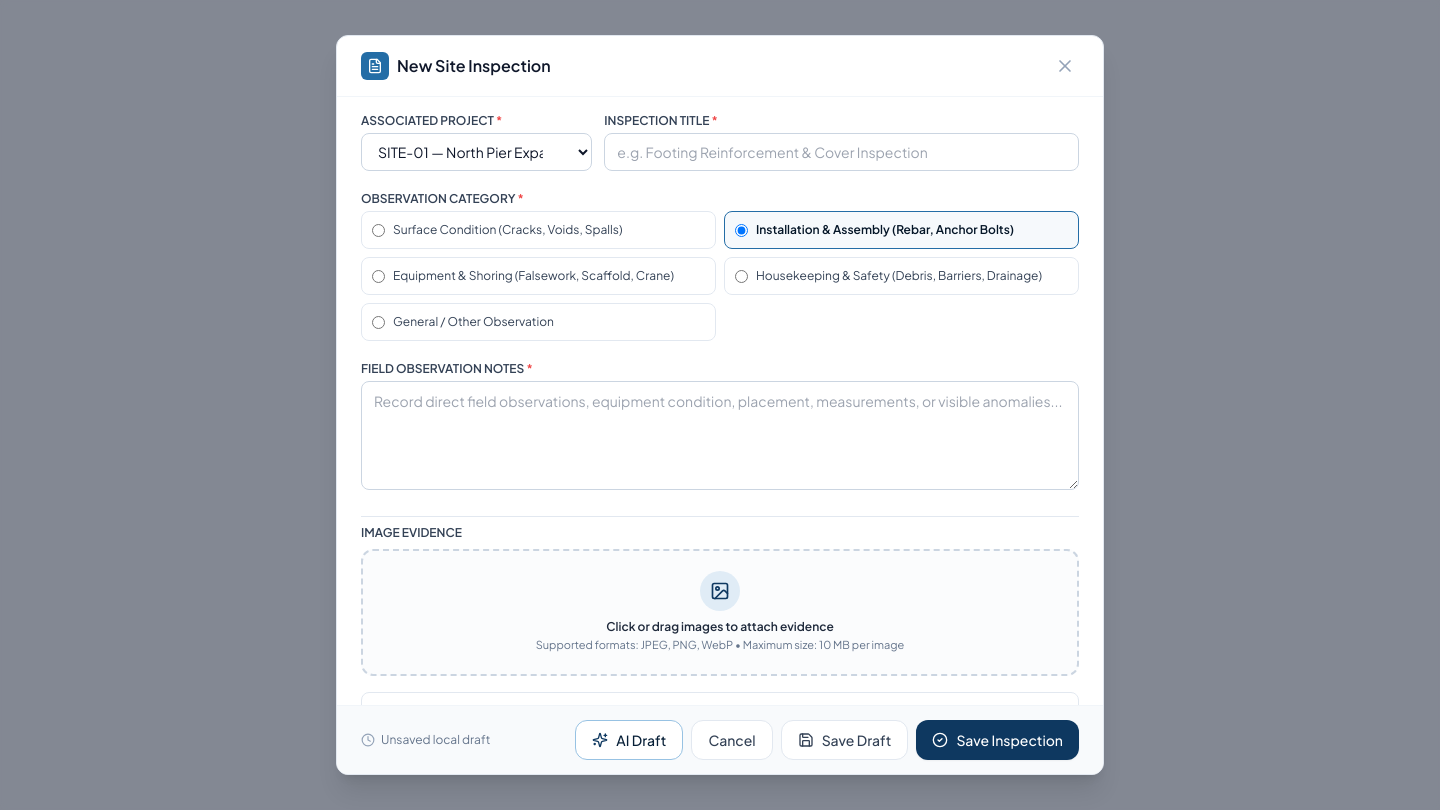
ForeSite Phase 4 AI UI Components › InspectionEditorModal AI Drafting Integration › shows error when AI draft button is clicked without a photograph
The width and height of the screenshot is (1440, 810).
Click the button "AI Draft": (629, 740) [575,720,683,760]
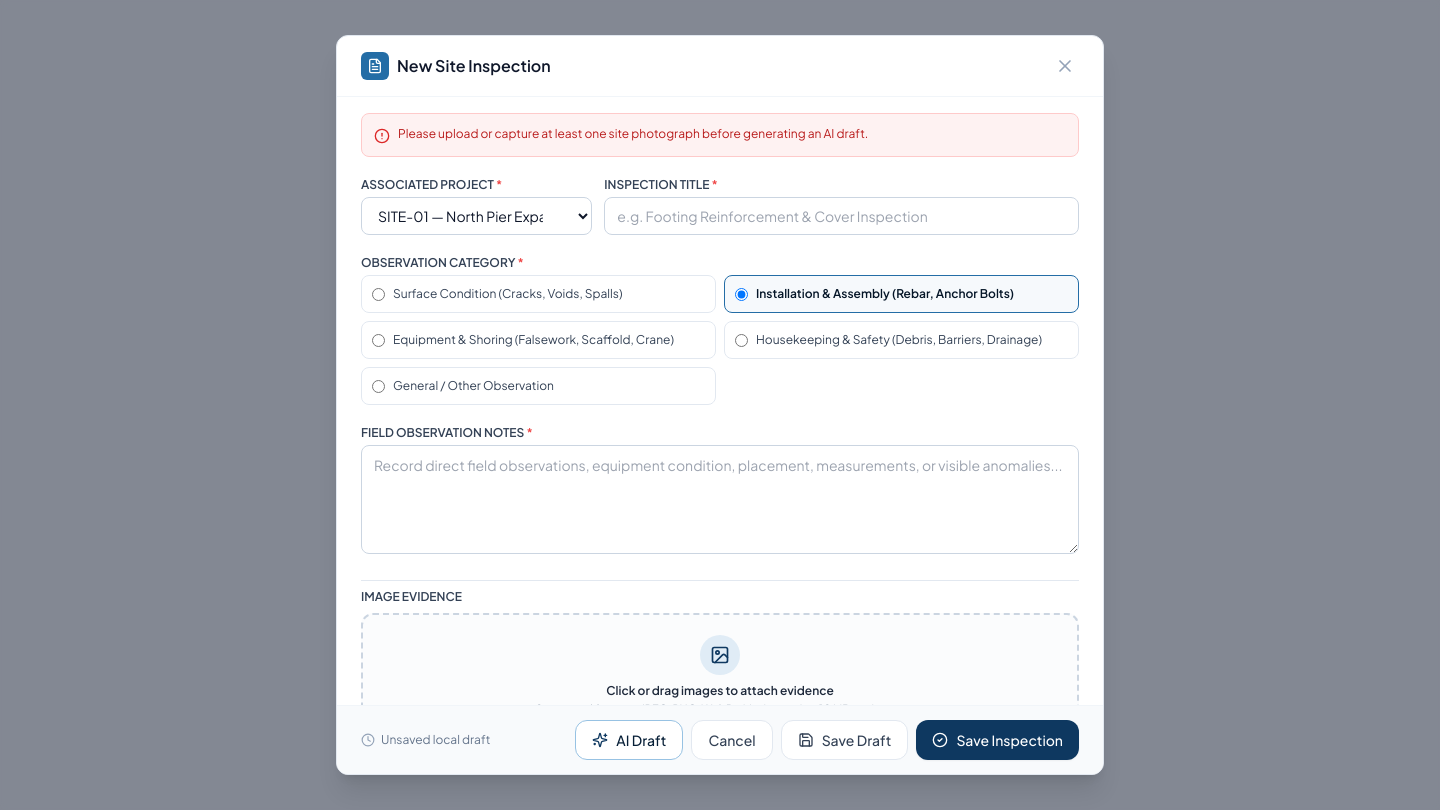
Expected: the text "Please upload or capture at least one site photograph before generating an AI draft" is shown, [398,126,868,141]
